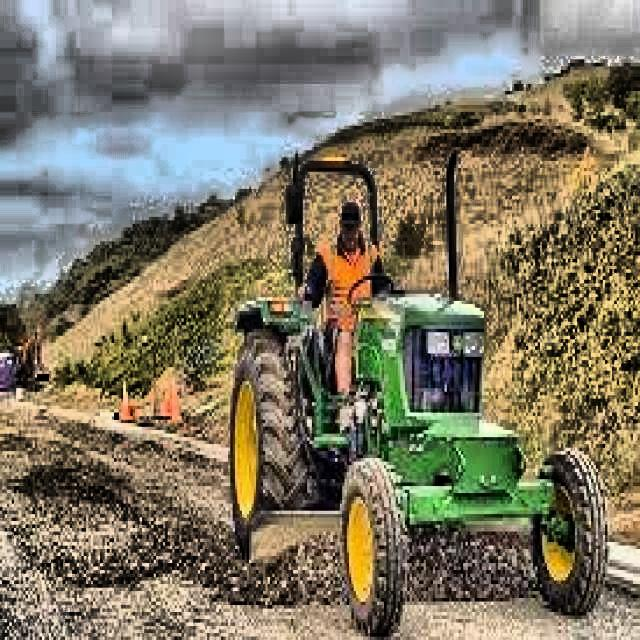bull_dozer/loader/grader: (225, 133, 612, 640)
person: (298, 202, 389, 438)
